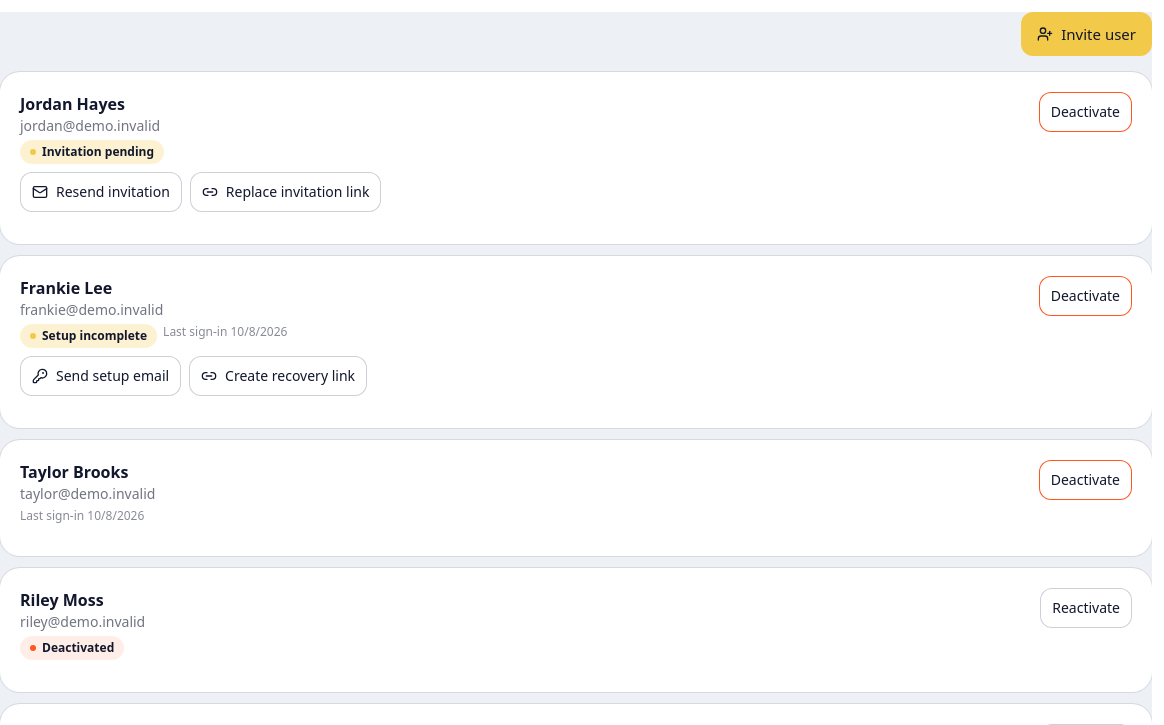
Test case: recovery channel (opened invitation, no password) › Send setup email → success toast
Step 1. Click the button "Send setup email" → (101, 376), box [20,356,181,396]
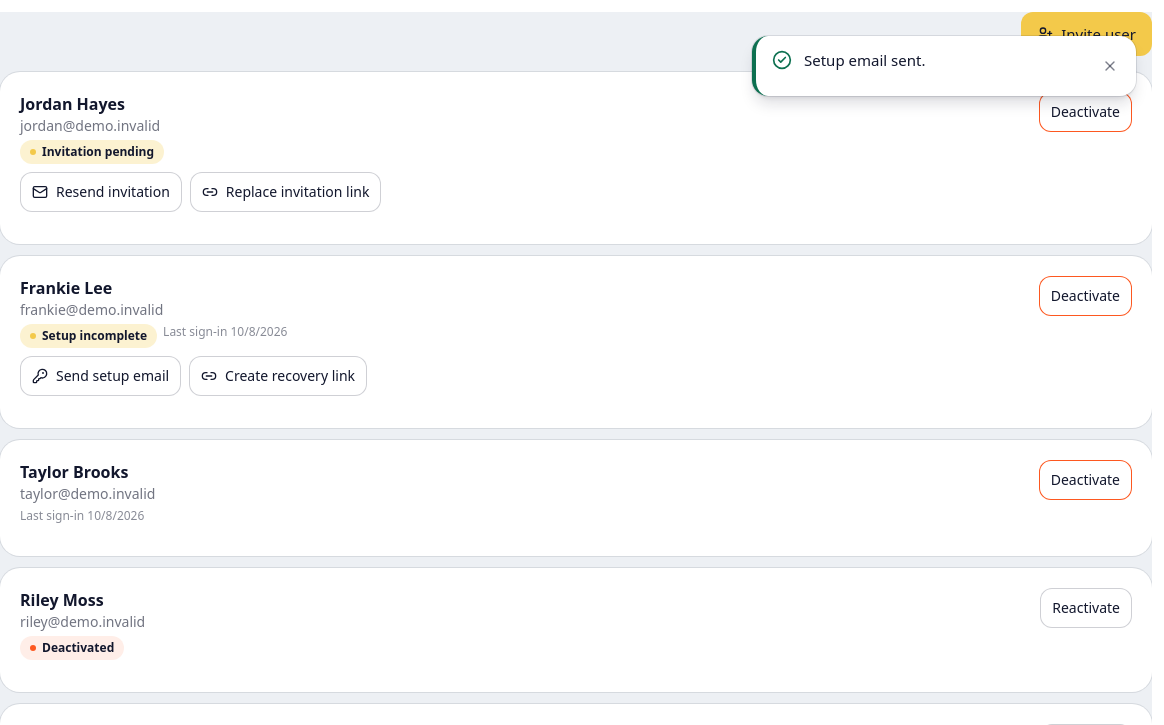
Expected: the text "Setup email sent." is shown, [803,49,925,70]
